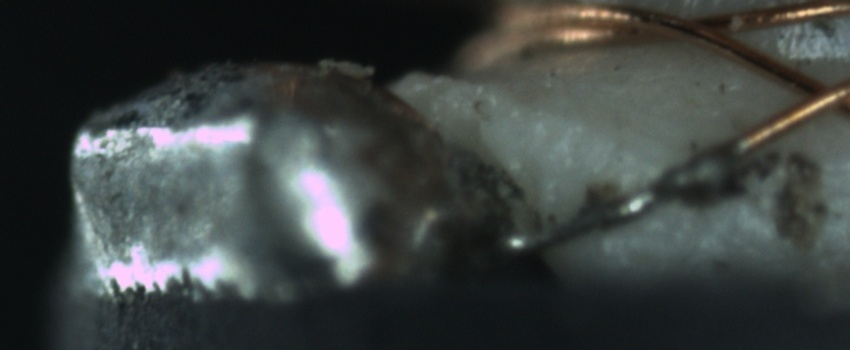CL: (776, 64, 848, 128)
TS: (509, 141, 747, 256)
TTCW: (516, 107, 815, 257)
